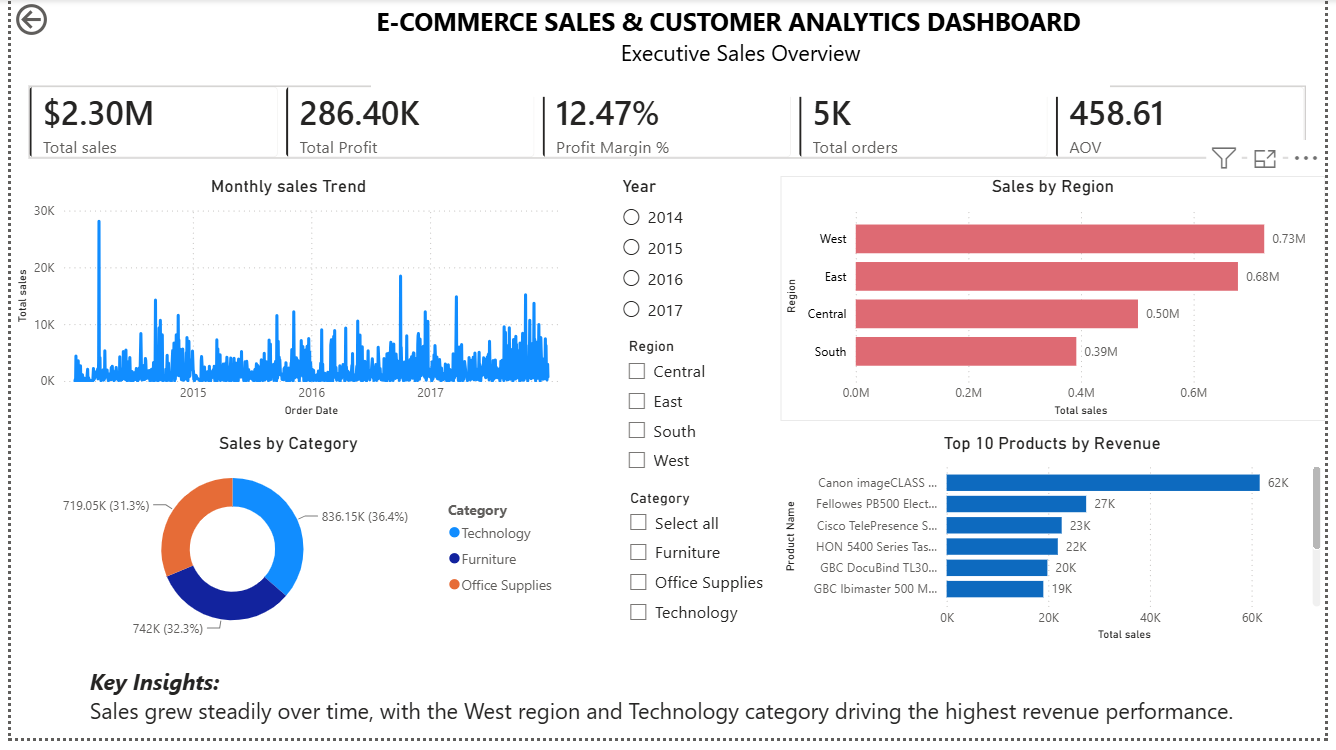

The dashboard page shown, as its layout file describes it:
{"tool":"powerbi","page":{"name":"Page 1","canvas":[1280,720],"ordinal":0},"visuals":[{"type":"cardVisual","fields":{"Data":["DateTable.Total sales","DateTable.Total Profit","DateTable.Profit Margin %","DateTable.Total orders","DateTable.AOV"]},"box":[0,67.4,1280.6,105.2],"z":0},{"type":"lineChart","title":"Monthly sales Trend","fields":{"Y":["DateTable.Total sales"],"Category":["Sample - Superstore.Order Date Hierarchy.Order Date"]},"box":[0,172.6,540.8,238.4],"z":1000},{"type":"donutChart","title":"Sales by Category","fields":{"Category":["Sample - Superstore.Category"],"Y":["DateTable.Total sales"]},"box":[0,422.5,540.8,207.1],"z":2000},{"type":"clusteredBarChart","title":"Sales by Region","fields":{"Category":["Sample - Superstore.Region"],"Y":["DateTable.Total sales"]},"box":[749.6,172.6,531,238.4],"z":3000},{"type":"clusteredBarChart","title":"Top 10 Products by Revenue","fields":{"Category":["Sample - Superstore.Product Name"],"Y":["DateTable.Total sales"]},"box":[748,422.5,532.6,207.1],"z":4000},{"type":"listSlicer","fields":{"Values":["DateTable.Year"]},"box":[590.1,172.6,157.8,151.2],"z":5000},{"type":"slicer","fields":{"Values":["Sample - Superstore.Region"]},"box":[588.5,323.8,159.5,151.2],"z":6000},{"type":"slicer","fields":{"Values":["Sample - Superstore.Category"]},"box":[590.1,471.8,159.5,157.8],"z":7000},{"type":"textbox","box":[350.1,0,720,95.3],"z":8000},{"type":"actionButton","box":[0,0,100,40],"z":9000},{"type":"textbox","box":[72.3,644.4,1190.2,75.6],"z":10000}]}

Visuals, with their boxes in screenshot pixels (x1, y1, x2, y2), scaled from the page's 1280x720 canvas onto the 1336x750 screenshot:
cardVisual - DateTable.Total sales x DateTable.Total Profit: (x1=0, y1=70, x2=1335, y2=180)
"Monthly sales Trend" lineChart: (x1=0, y1=180, x2=564, y2=428)
"Sales by Category" donutChart: (x1=0, y1=440, x2=564, y2=656)
"Sales by Region" clusteredBarChart: (x1=782, y1=180, x2=1335, y2=428)
"Top 10 Products by Revenue" clusteredBarChart: (x1=781, y1=440, x2=1335, y2=656)
listSlicer - DateTable.Year: (x1=616, y1=180, x2=781, y2=337)
slicer - Sample - Superstore.Region: (x1=614, y1=337, x2=781, y2=495)
slicer - Sample - Superstore.Category: (x1=616, y1=491, x2=782, y2=656)
textbox: (x1=365, y1=0, x2=1117, y2=99)
actionButton: (x1=0, y1=0, x2=104, y2=42)
textbox: (x1=75, y1=671, x2=1318, y2=749)
